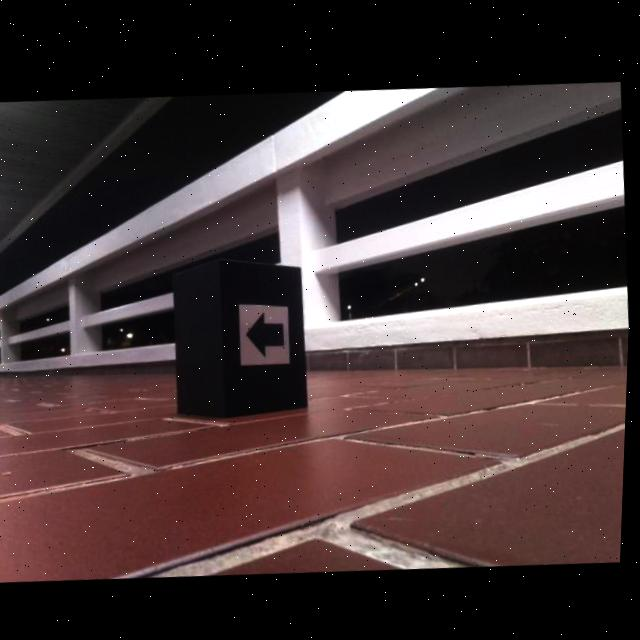LEFT: (248, 308, 287, 357)
